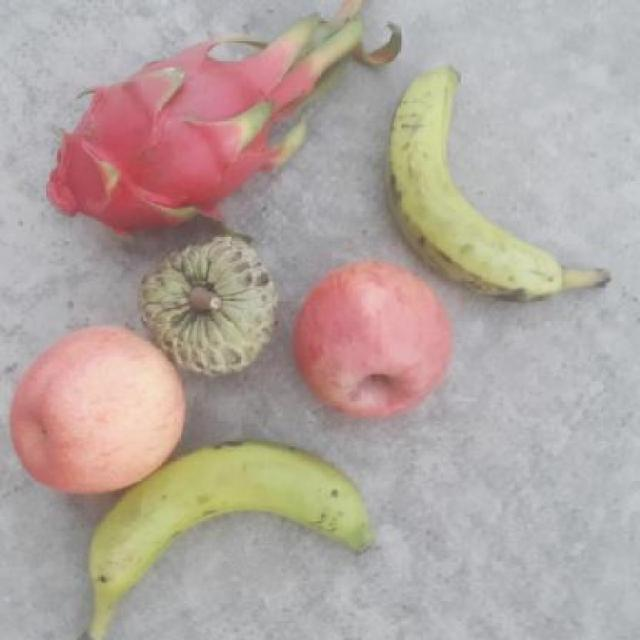apple: (5, 317, 187, 498), (293, 254, 453, 423)
banana: (79, 434, 376, 638), (383, 59, 574, 299)
dragon fruit: (43, 42, 277, 232)
sugar apple: (133, 228, 276, 381)
